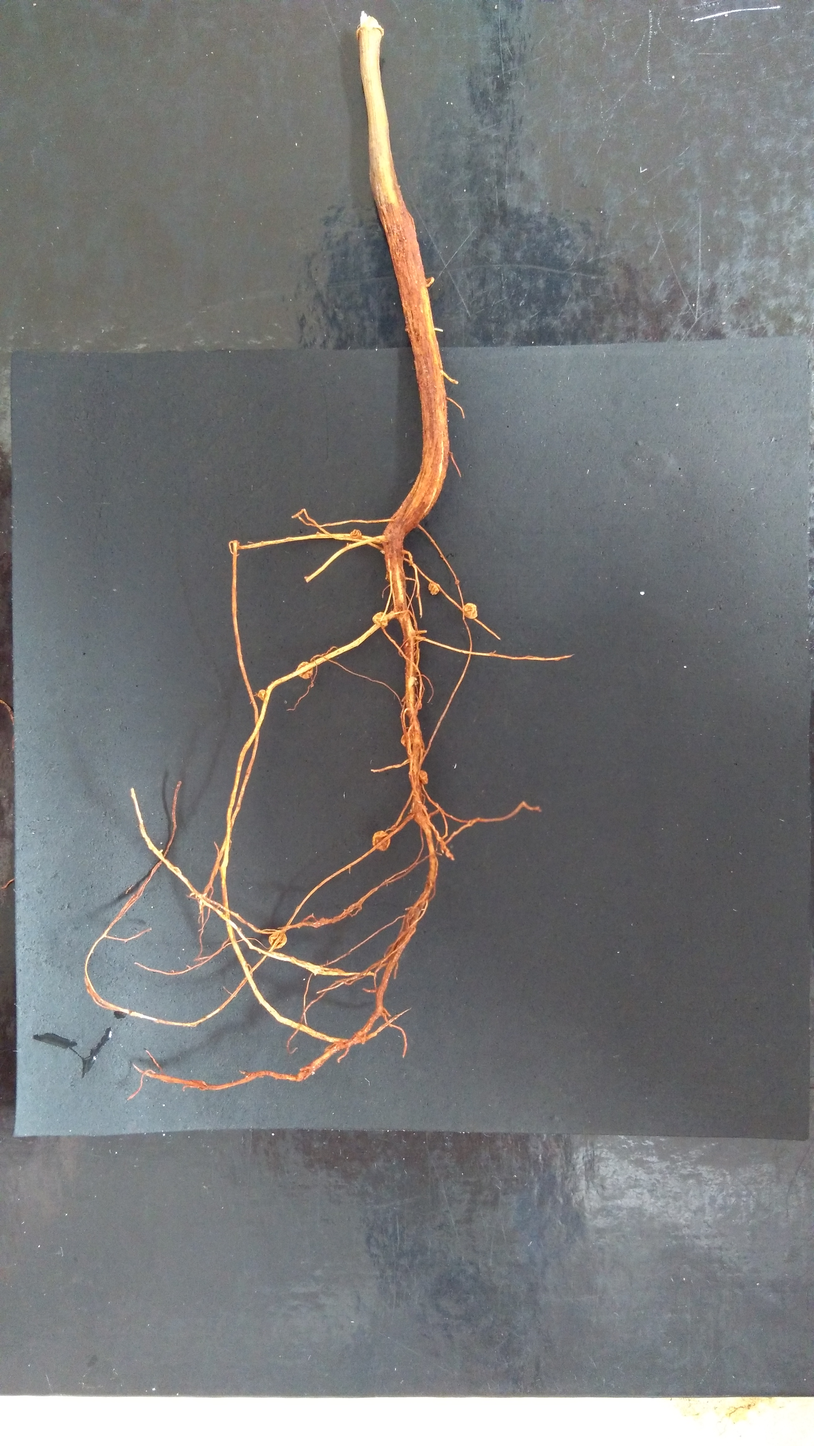nodule: (371, 830, 393, 852), (268, 930, 288, 950), (296, 661, 314, 680), (371, 611, 389, 627), (462, 602, 478, 619), (400, 731, 413, 746), (428, 582, 440, 596), (419, 770, 429, 785), (256, 689, 268, 701), (349, 529, 362, 540), (415, 702, 423, 710), (454, 579, 460, 585), (380, 550, 385, 555), (440, 554, 443, 558)
